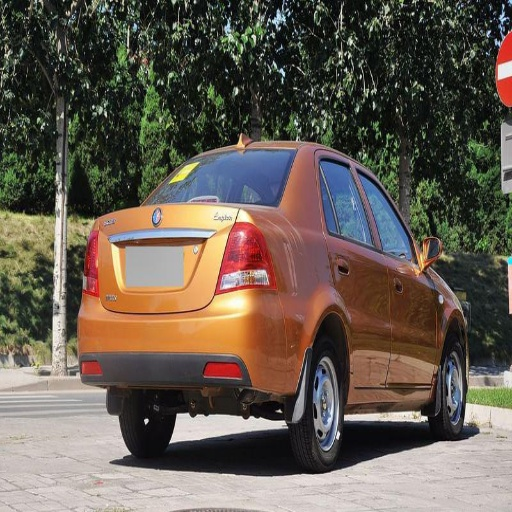back_bumper: (77, 287, 312, 398)
back_right_door: (314, 150, 391, 392)
